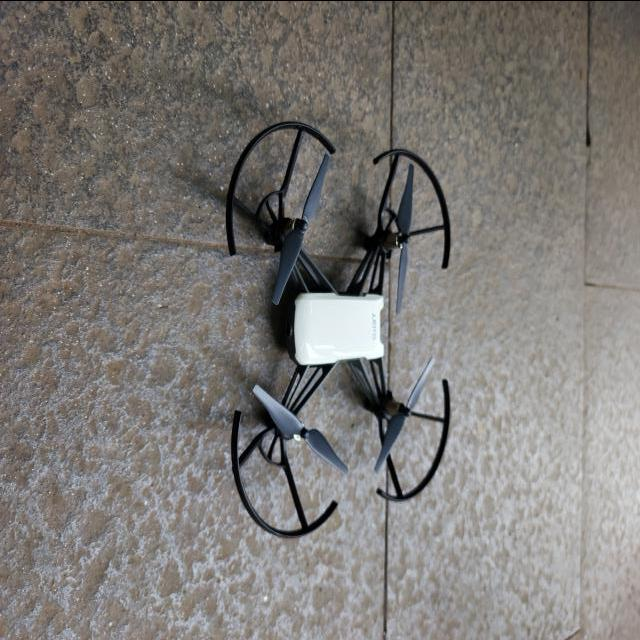drone: (213, 111, 460, 549)
